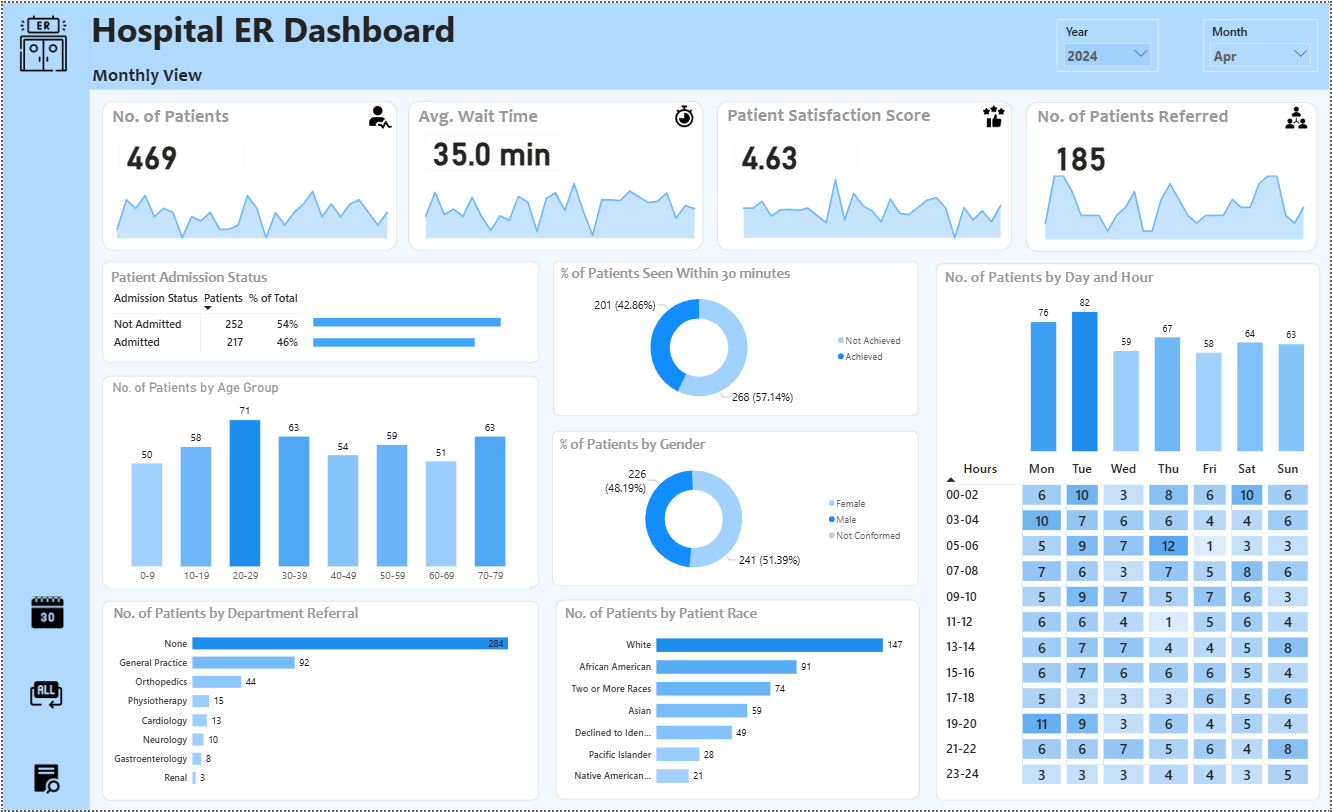

What the dashboard file says about the page in this screenshot:
{"tool":"powerbi","page":{"name":"Monthly View","canvas":[2300,1400],"ordinal":0},"visuals":[{"type":"shape","box":[702,168.1,512,260.4],"z":0,"group":"g3"},{"type":"shape","box":[170.9,168.4,512,260.4],"z":0,"group":"g2"},{"type":"shape","box":[1236.7,168.9,512,260.4],"z":0,"group":"g4"},{"type":"shape","box":[1770.7,171.2,506,260.4],"z":0,"group":"g5"},{"type":"shape","box":[171.2,445.7,757.7,178.3],"z":0,"group":"g6"},{"type":"shape","box":[952.4,445.7,633.4,269.8],"z":0,"group":"g9"},{"type":"group","id":"g1","title":"Group 1","box":[1613.9,449.6,666.4,931.3],"z":0},{"type":"shape","box":[1613.9,449.6,666.4,931.3],"z":0,"group":"g1"},{"type":"shape","box":[171.2,645.1,757.7,368.3],"z":0,"group":"g7"},{"type":"shape","box":[950.1,741.3,635.7,269.8],"z":0,"group":"g10"},{"type":"shape","box":[956.3,1033.2,631,347.2],"z":0,"group":"g11"},{"type":"shape","box":[171.2,1034.5,757.7,347.2],"z":0,"group":"g8"},{"type":"shape","box":[0,0,150,1400.5],"z":1000},{"type":"pivotTable","fields":{"Rows":["Hospital ER_Data.Wait Time Intervals"],"Columns":["Date Table.Day"],"Values":["Hospital ER_Data.No. of Patients"]},"box":[1623.4,782.5,642.8,586.5],"z":1000,"group":"g1"},{"type":"shape","box":[150.1,0,2148.8,150.1],"z":2000},{"type":"columnChart","title":"No. of Patients by Day and Hour","fields":{"Category":["Date Table.Day"],"Y":["Hospital ER_Data.No. of Patients"]},"box":[1773.5,489.3,485.6,293.2],"z":2000,"group":"g1"},{"type":"textbox","box":[147.8,0,1083.8,98.5],"z":3000},{"type":"textbox","box":[150.1,98.5,234.6,51.6],"z":4000},{"type":"slicer","fields":{"Values":["Date Table.Year"]},"box":[1825.1,28.2,175.9,91.5],"z":5000},{"type":"cardVisual","fields":{"Data":["Hospital ER_Data.Average Wait Time"]},"box":[714.8,209,275.6,98.5],"z":5000,"group":"g3"},{"type":"cardVisual","fields":{"Data":["Hospital ER_Data.No. of Patients Card"]},"box":[184.7,222.4,250.5,84.5],"z":5000,"group":"g2"},{"type":"cardVisual","fields":{"Data":["Avg(Hospital ER_Data.Patient Satisfaction Score)"]},"box":[1250.5,222.9,250.5,84.5],"z":5000,"group":"g4"},{"type":"cardVisual","fields":{"Data":["Hospital ER_Data.No. of Patients Referred Card"]},"box":[1789.5,225.2,247.5,84.5],"z":5000,"group":"g5"},{"type":"slicer","fields":{"Values":["Date Table.Month"]},"box":[2078.4,28.2,199.4,91.5],"z":6000},{"type":"group","id":"g2","title":"Group 1","box":[167.1,168.4,515.8,260.4],"z":7000},{"type":"group","id":"g3","title":"Group 1","box":[701.9,168.1,512.1,260.4],"z":8000},{"type":"textbox","box":[1249.9,168.9,443.5,56.3],"z":8000,"group":"g4"},{"type":"textbox","box":[714.7,170.4,292.4,51.6],"z":8000,"group":"g3"},{"type":"textbox","box":[184.7,170.7,316.6,51.6],"z":8000,"group":"g2"},{"type":"textbox","box":[1786.3,171.2,427.7,56.3],"z":8000,"group":"g5"},{"type":"group","id":"g4","title":"Group 1","box":[1236.7,168.9,512,260.4],"z":9000},{"type":"areaChart","fields":{"Category":["Date Table.Date.Variation.Date Hierarchy.Day"],"Y":["Avg(Hospital ER_Data.Patient Satisfaction Score)"]},"box":[1237.5,281.7,506.7,131.4],"z":9000,"group":"g4"},{"type":"areaChart","fields":{"Category":["Date Table.Date.Variation.Date Hierarchy.Day"],"Y":["Hospital ER_Data.No. of Patients"]},"box":[167.1,282.3,513.7,129],"z":9000,"group":"g2"},{"type":"areaChart","fields":{"Category":["Date Table.Date.Variation.Date Hierarchy.Day"],"Y":["Avg(Hospital ER_Data.Patient Waittime)"]},"box":[701.9,282.9,511.4,129],"z":9000,"group":"g3"},{"type":"areaChart","fields":{"Category":["Date Table.Date.Variation.Date Hierarchy.Day"],"Y":["Hospital ER_Data.No. of Patients Referred"]},"box":[1775.9,286.1,492.3,129],"z":9000,"group":"g5"},{"type":"textbox","box":[1625.7,451.9,455.1,51.6],"z":10000},{"type":"group","id":"g5","title":"Group 1","box":[1770.7,171.2,512,260.4],"z":11000},{"type":"group","id":"g6","title":"Group 1","box":[171.2,445.7,757.7,178.3],"z":12000},{"type":"pivotTable","title":"Patient Admission Status","fields":{"Values":["Hospital ER_Data.No. of Patients1","Hospital ER_Data.No. of Patients"],"Rows":["Hospital ER_Data.Admission Status"]},"box":[182.7,458.4,419.9,175.9],"z":13000},{"type":"barChart","fields":{"Category":["Hospital ER_Data.Admission Status"],"Y":["Hospital ER_Data.No. of Patients"]},"box":[532.5,516.1,396.4,105.6],"z":14000},{"type":"group","id":"g7","title":"Group 1","box":[171.2,645.1,757.7,368.3],"z":15000},{"type":"columnChart","fields":{"Category":["Hospital ER_Data.Age Group"],"Y":["Hospital ER_Data.No. of Patients"]},"box":[183,652.1,727.2,361.3],"z":16000},{"type":"group","id":"g8","title":"Group 1","box":[171.2,1034.5,757.7,347.2],"z":17000},{"type":"barChart","fields":{"Y":["Hospital ER_Data.No. of Patients"],"Category":["Hospital ER_Data.Department Referral"]},"box":[185.3,1041.6,727.2,330.8],"z":18000},{"type":"group","id":"g9","title":"Group 1","box":[952.4,445.7,633.4,269.8],"z":19000},{"type":"donutChart","title":"% of Patients Seen Within 30 minutes","fields":{"Category":["Hospital ER_Data.Wait Time Status"],"Y":["Hospital ER_Data.No. of Patients"]},"box":[961.8,452.8,607.6,258],"z":20000},{"type":"group","id":"g10","title":"Group 1","box":[950.1,741.3,635.7,269.8],"z":21000},{"type":"donutChart","title":"% of Patients by Gender","fields":{"Y":["Hospital ER_Data.No. of Patients"],"Category":["Hospital ER_Data.Patient Gender"]},"box":[959.5,748.3,609.9,258],"z":22000},{"type":"group","id":"g11","title":"Group 1","box":[956.3,1033.2,631,347.2],"z":23000},{"type":"barChart","fields":{"Y":["Hospital ER_Data.No. of Patients"],"Category":["Hospital ER_Data.Patient Race"]},"box":[968,1040.2,602.9,330.8],"z":24000},{"type":"image","box":[634.2,177.5,39,41.1],"z":25000},{"type":"image","box":[1161.2,178.3,39.9,37.5],"z":26000},{"type":"image","box":[1696.1,178.3,37.5,37.5],"z":27000},{"type":"image","box":[2221.5,180.6,37.5,37.5],"z":28000},{"type":"image","box":[21.1,21.1,97,97],"z":29000},{"type":"actionButton","box":[44.6,1023,63.3,63.3],"z":30000},{"type":"actionButton","box":[42.2,1167.2,63.3,63.3],"z":31000},{"type":"actionButton","box":[42.2,1311.5,63.3,63.3],"z":32000}]}

Visuals, with their boxes in screenshot pixels (x1, y1, x2, y2), scaled from the page's 2300x1400 canvas onto the 1332x812 screenshot:
shape: crop(407, 97, 703, 249)
shape: crop(99, 98, 395, 249)
shape: crop(716, 98, 1013, 249)
shape: crop(1025, 99, 1319, 250)
shape: crop(99, 259, 538, 362)
shape: crop(552, 259, 918, 415)
"Group 1" group: crop(935, 261, 1321, 801)
shape: crop(935, 261, 1321, 801)
shape: crop(99, 374, 538, 588)
shape: crop(550, 430, 918, 586)
shape: crop(554, 599, 919, 801)
shape: crop(99, 600, 538, 801)
shape: crop(0, 0, 87, 811)
pivotTable - Hospital ER_Data.Wait Time Intervals x Date Table.Day: crop(940, 454, 1312, 794)
shape: crop(87, 0, 1331, 87)
"No. of Patients by Day and Hour" columnChart: crop(1027, 284, 1308, 454)
textbox: crop(86, 0, 713, 57)
textbox: crop(87, 57, 223, 87)
slicer - Date Table.Year: crop(1057, 16, 1159, 69)
cardVisual - Hospital ER_Data.Average Wait Time: crop(414, 121, 574, 178)
cardVisual - Hospital ER_Data.No. of Patients Card: crop(107, 129, 252, 178)
cardVisual - Avg(Hospital ER_Data.Patient Satisfaction Score): crop(724, 129, 869, 178)
cardVisual - Hospital ER_Data.No. of Patients Referred Card: crop(1036, 131, 1180, 180)
slicer - Date Table.Month: crop(1204, 16, 1319, 69)
"Group 1" group: crop(97, 98, 395, 249)
"Group 1" group: crop(406, 97, 703, 249)
textbox: crop(724, 98, 981, 131)
textbox: crop(414, 99, 583, 129)
textbox: crop(107, 99, 290, 129)
textbox: crop(1035, 99, 1282, 132)
"Group 1" group: crop(716, 98, 1013, 249)
areaChart - Date Table.Date.Variation.Date Hierarchy.Day x Avg(Hospital ER_Data.Patient Satisfaction Score): crop(717, 163, 1010, 240)
areaChart - Date Table.Date.Variation.Date Hierarchy.Day x Hospital ER_Data.No. of Patients: crop(97, 164, 394, 239)
areaChart - Date Table.Date.Variation.Date Hierarchy.Day x Avg(Hospital ER_Data.Patient Waittime): crop(406, 164, 703, 239)
areaChart - Date Table.Date.Variation.Date Hierarchy.Day x Hospital ER_Data.No. of Patients Referred: crop(1028, 166, 1314, 241)
textbox: crop(941, 262, 1205, 292)
"Group 1" group: crop(1025, 99, 1322, 250)
"Group 1" group: crop(99, 259, 538, 362)
"Patient Admission Status" pivotTable: crop(106, 266, 349, 368)
barChart - Hospital ER_Data.Admission Status x Hospital ER_Data.No. of Patients: crop(308, 299, 538, 361)
"Group 1" group: crop(99, 374, 538, 588)
columnChart - Hospital ER_Data.Age Group x Hospital ER_Data.No. of Patients: crop(106, 378, 527, 588)
"Group 1" group: crop(99, 600, 538, 801)
barChart - Hospital ER_Data.No. of Patients x Hospital ER_Data.Department Referral: crop(107, 604, 528, 796)
"Group 1" group: crop(552, 259, 918, 415)
"% of Patients Seen Within 30 minutes" donutChart: crop(557, 263, 909, 412)
"Group 1" group: crop(550, 430, 918, 586)
"% of Patients by Gender" donutChart: crop(556, 434, 909, 584)
"Group 1" group: crop(554, 599, 919, 801)
barChart - Hospital ER_Data.No. of Patients x Hospital ER_Data.Patient Race: crop(561, 603, 910, 795)
image: crop(367, 103, 390, 127)
image: crop(672, 103, 696, 125)
image: crop(982, 103, 1004, 125)
image: crop(1287, 105, 1308, 126)
image: crop(12, 12, 68, 68)
actionButton: crop(26, 593, 62, 630)
actionButton: crop(24, 677, 61, 714)
actionButton: crop(24, 761, 61, 797)
